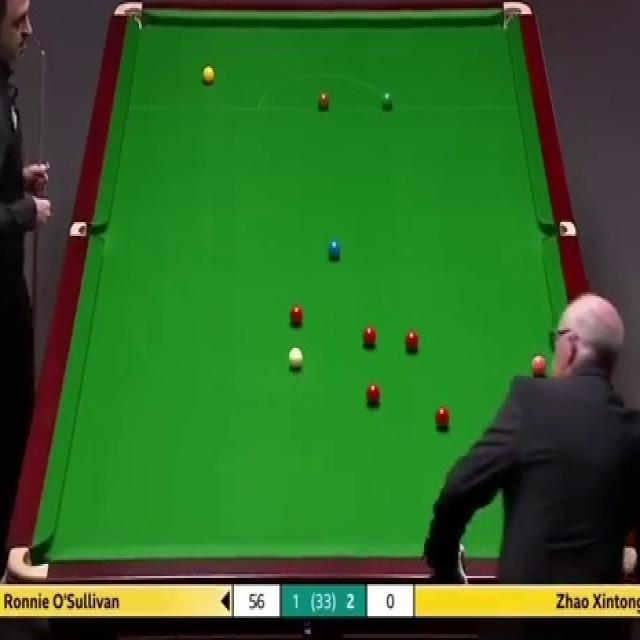pocket: (7, 542, 50, 582), (112, 0, 145, 32), (501, 2, 530, 30), (68, 218, 104, 236), (541, 220, 575, 237)
